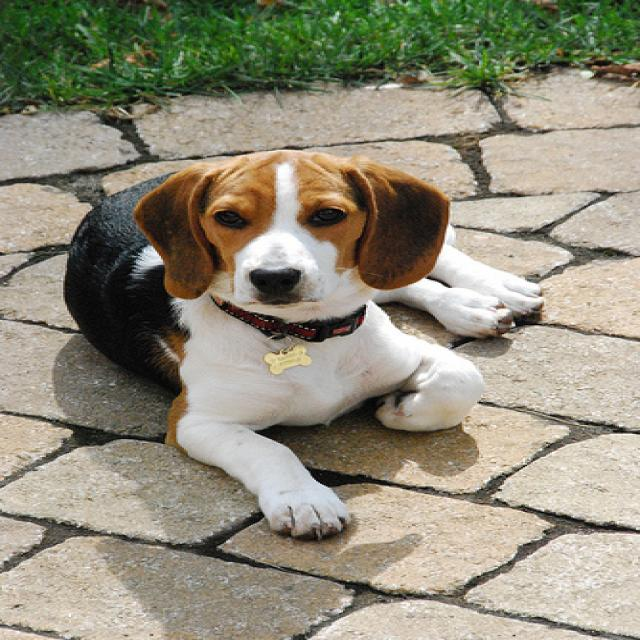dog-beagle: (48, 142, 558, 553)
